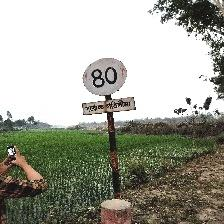Speed-limit: (81, 57, 134, 115)
